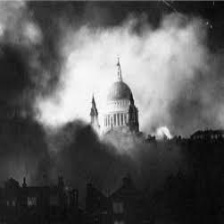smoke: (1, 2, 101, 196), (106, 1, 224, 60)
